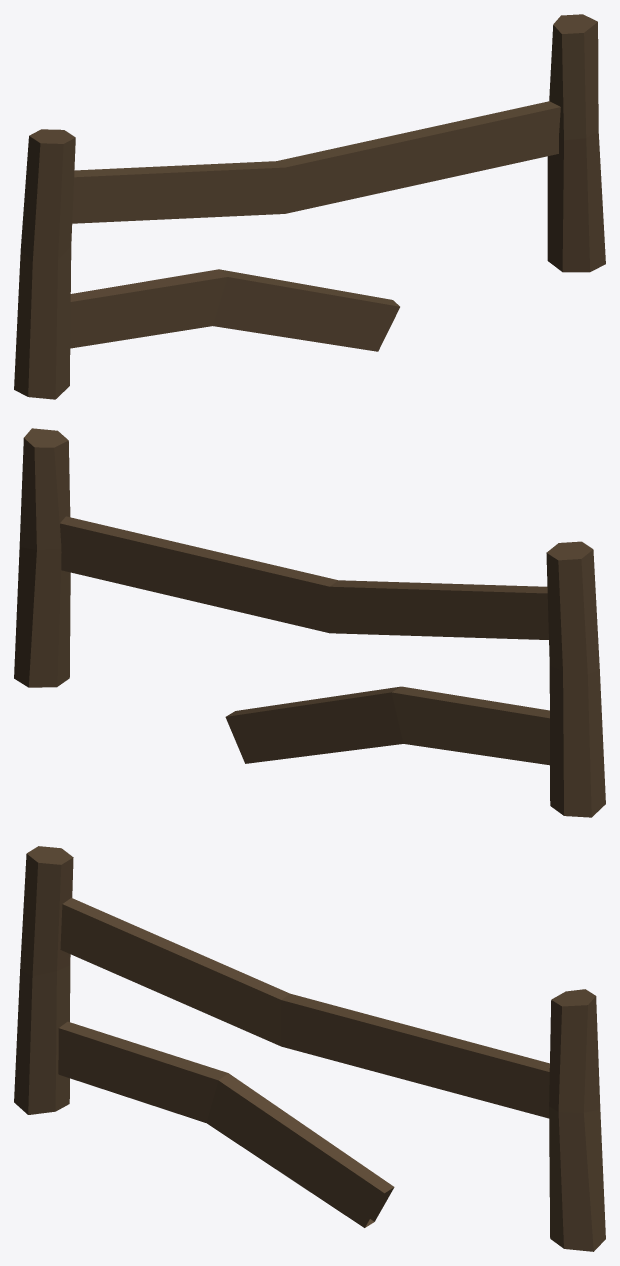
Rendered from enchantedforest_fence_wood_2.fbx.
3 views of the same model, one above another, from view 1: azimuth 30°, elevation 25°; view 2: azimuth 150°, elevation 25°; view 3: azimuth 330°, elevation 25° (orthographic).
Parts seen in each view (by area): view 1: Cube.028, Cylinder.012; view 2: Cube.028, Cylinder.012; view 3: Cube.028, Cylinder.012.
Part boxes in pixels (box(x1,y1,x2,y2)): Cube.028: box(14, 101, 560, 399); Cylinder.012: box(547, 14, 605, 272); Cube.028: box(60, 516, 605, 817); Cylinder.012: box(14, 428, 70, 687); Cube.028: box(14, 846, 549, 1227); Cylinder.012: box(549, 989, 605, 1251).
Size of the model in its own units: 3.25 by 1.56 by 0.2815.
